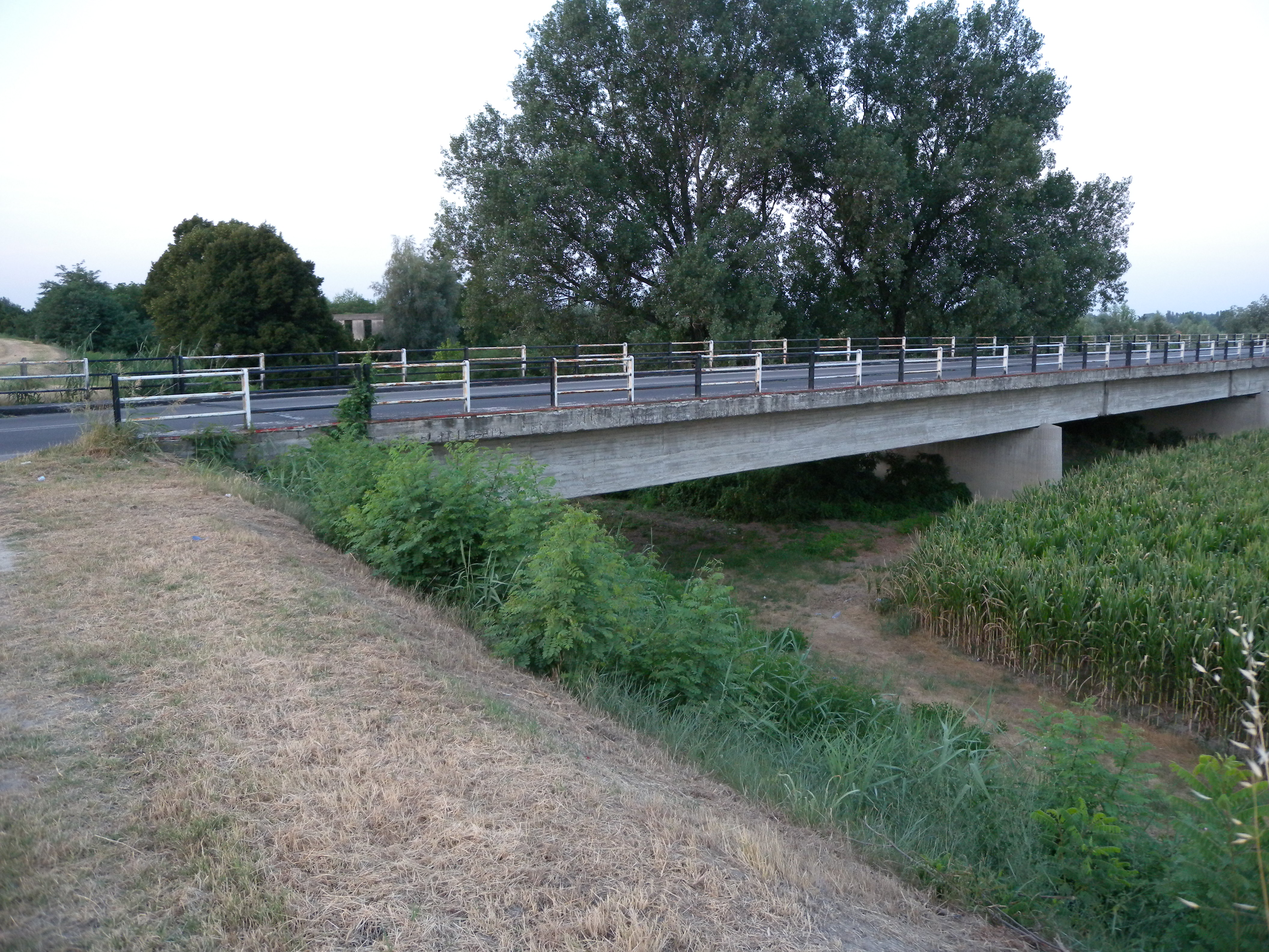Spalling: (400, 374, 1048, 447)
